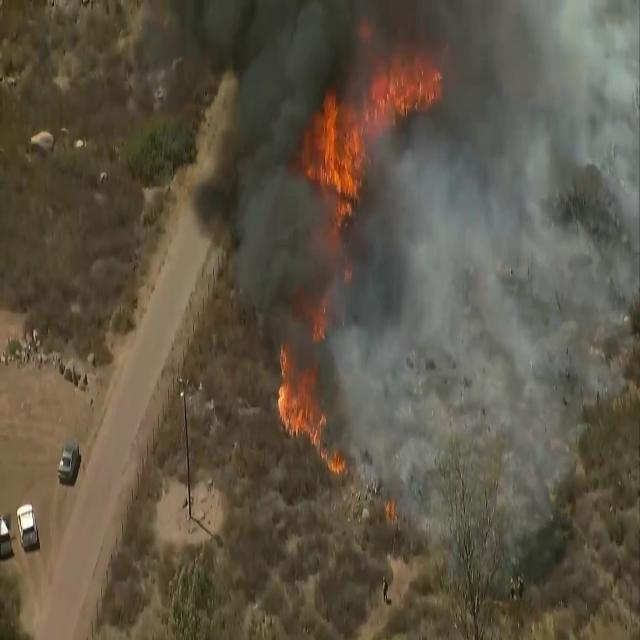Fire: (304, 18, 444, 224), (273, 336, 332, 452)
Smoke: (179, 0, 640, 502)
